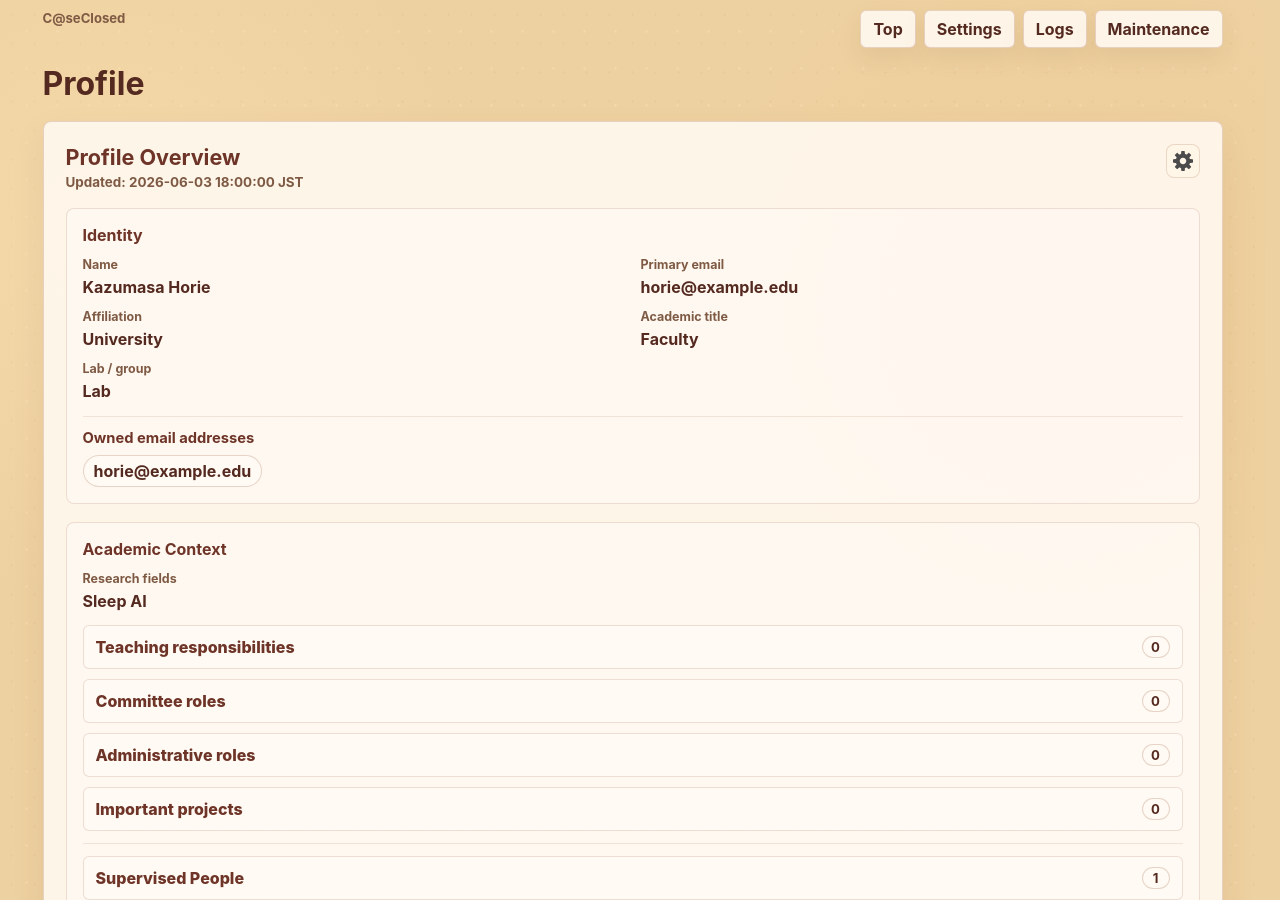
Scenario: Profile screen › shows supervised people and collaborators from contact tags
Click the text "Supervised People": [170, 878] box x1=96 y1=868 x2=244 y2=888
(page scrolled)
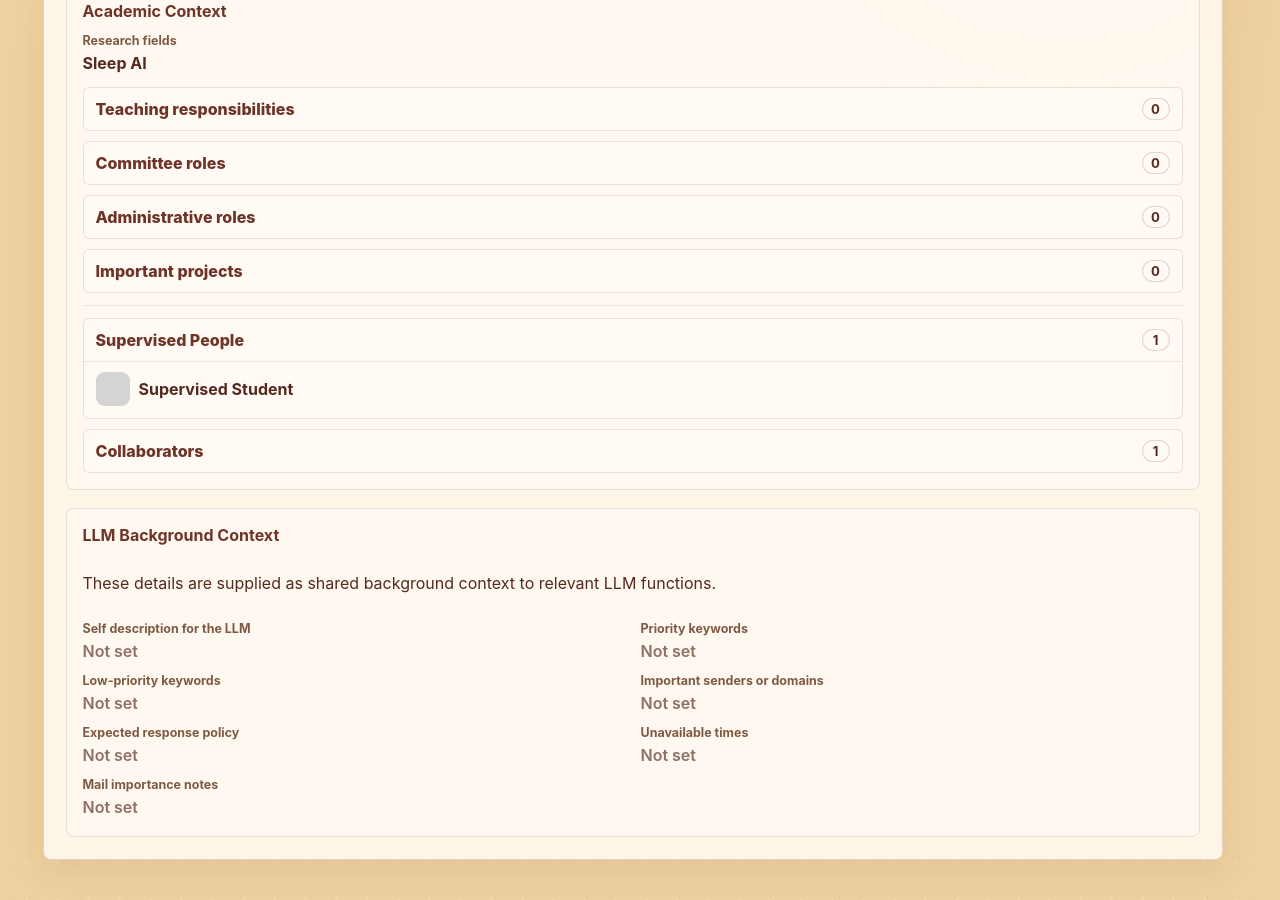
Expected: the text "Supervised Student" is shown, x1=138 y1=379 x2=293 y2=399
Click the text "Collaborators": [150, 451] box x1=96 y1=441 x2=204 y2=461
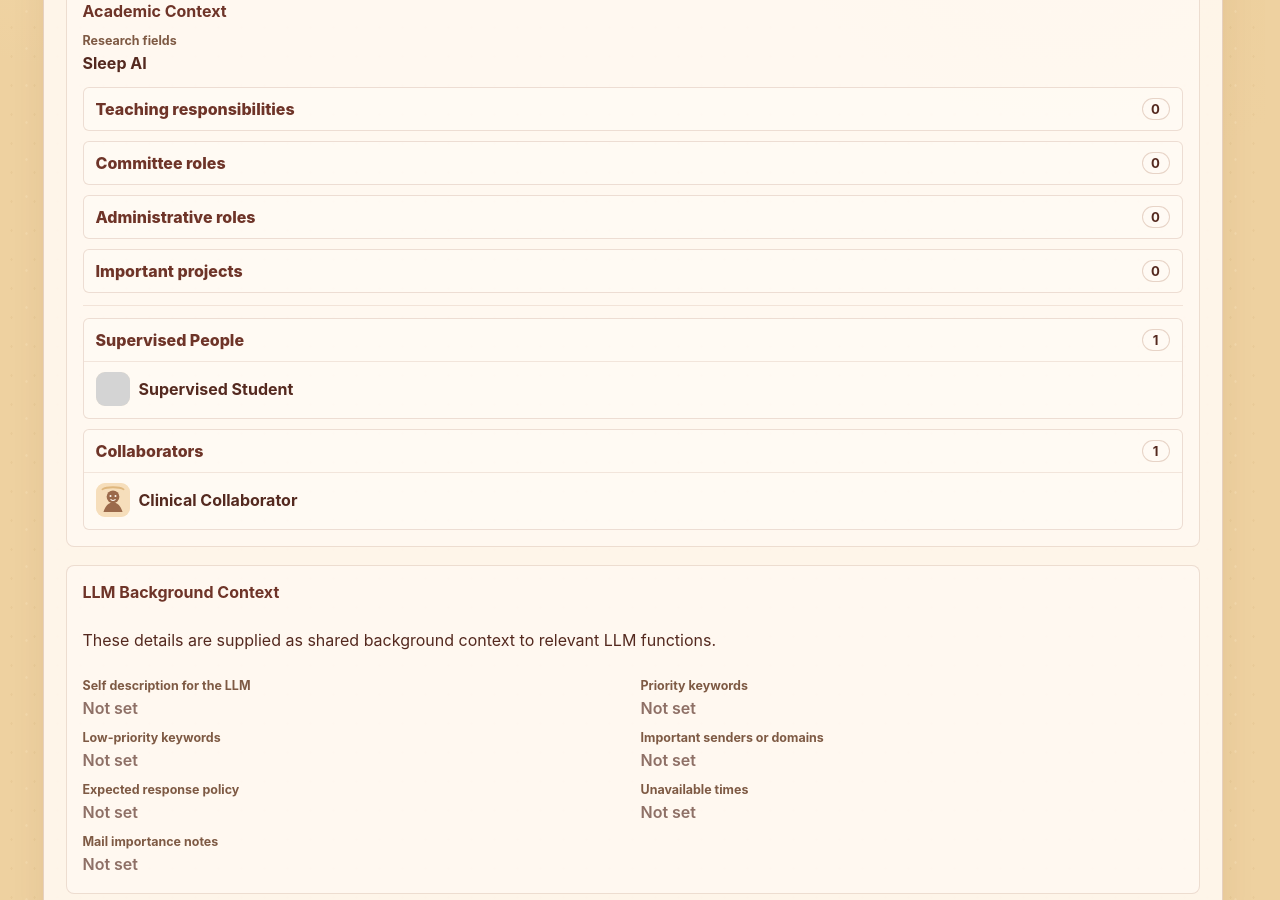
Expected: the text "Clinical Collaborator" is shown, x1=138 y1=490 x2=297 y2=510
